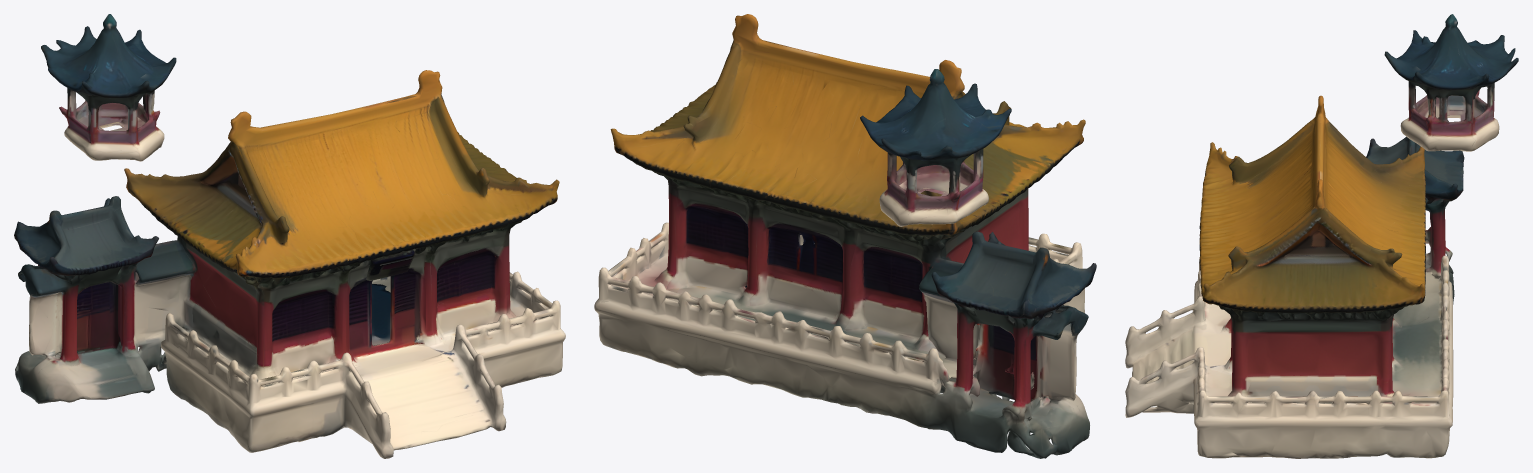
The picture shows the model from 3 angles, left to right: view 1: azimuth 30°, elevation 25°; view 2: azimuth 150°, elevation 25°; view 3: azimuth 270°, elevation 25°; orthographic projection. The views are drawn at different scales.
Parts seen in each view (by area): view 1: material.001; view 2: material.001; view 3: material.001.
Boxes of the visible parts, box(x1,y1,x2,y2) form: material.001: box(14, 14, 565, 458); material.001: box(594, 14, 1096, 458); material.001: box(1125, 14, 1518, 458).
Size of the model in its own units: 0.8952 by 0.6881 by 0.7925.
Materials: 1 (1 with a texture image).
